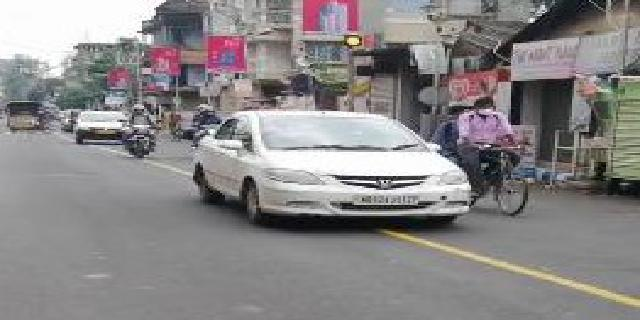Car: (187, 95, 473, 256), (75, 107, 123, 148)
Cycle: (451, 88, 533, 219)
Motorbike: (126, 101, 162, 159)
